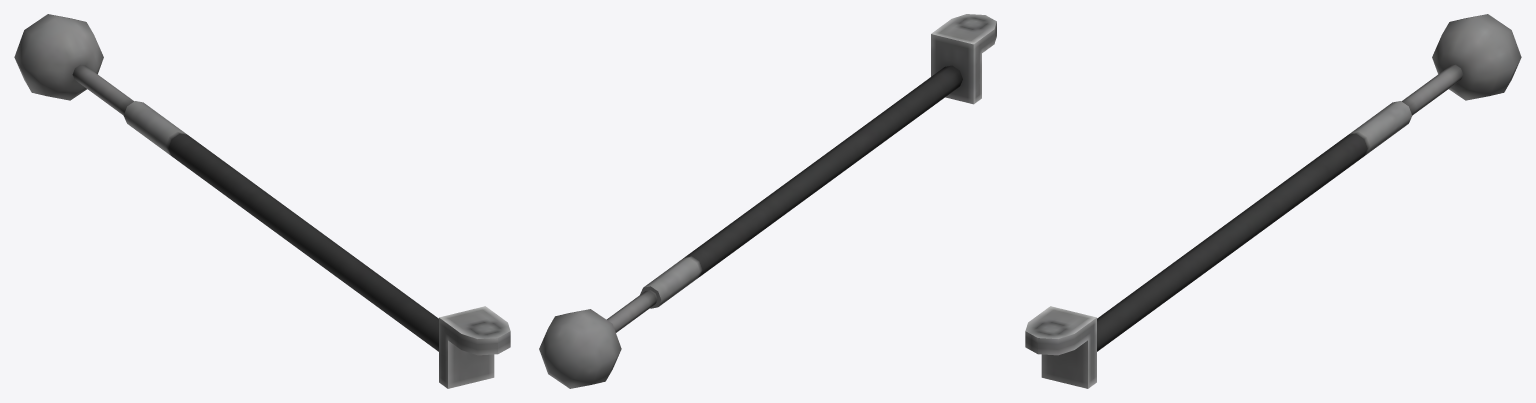
File: 4mv_sensor_magnetometer_srf_1_rotator.obj
3 views of the same model, side by side, from view 1: azimuth 30°, elevation 25°; view 2: azimuth 150°, elevation 25°; view 3: azimuth 330°, elevation 25° (orthographic). The views are drawn at different scales.
Visible parts, largest first — view 1: mesh1; view 2: mesh1; view 3: mesh1.
Part boxes in pixels (x1,y1,x2,y2): mesh1: (14, 14, 510, 388); mesh1: (539, 14, 996, 388); mesh1: (1025, 14, 1521, 388).
Size of the model in its own units: 0.0625 by 0.0625 by 0.6438.
1 material, 1 textured.
